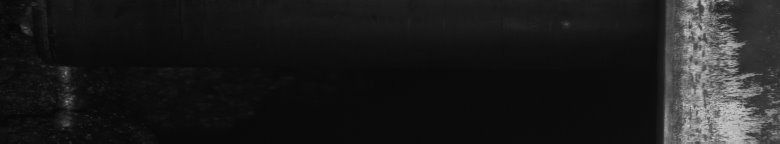kb: (677, 4, 776, 136)
